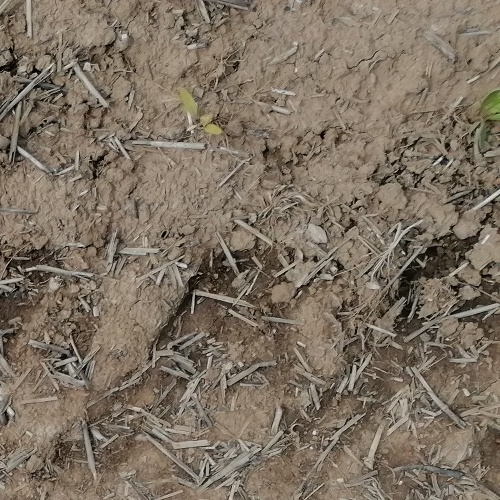beet: (175, 86, 225, 137), (472, 85, 500, 143)
